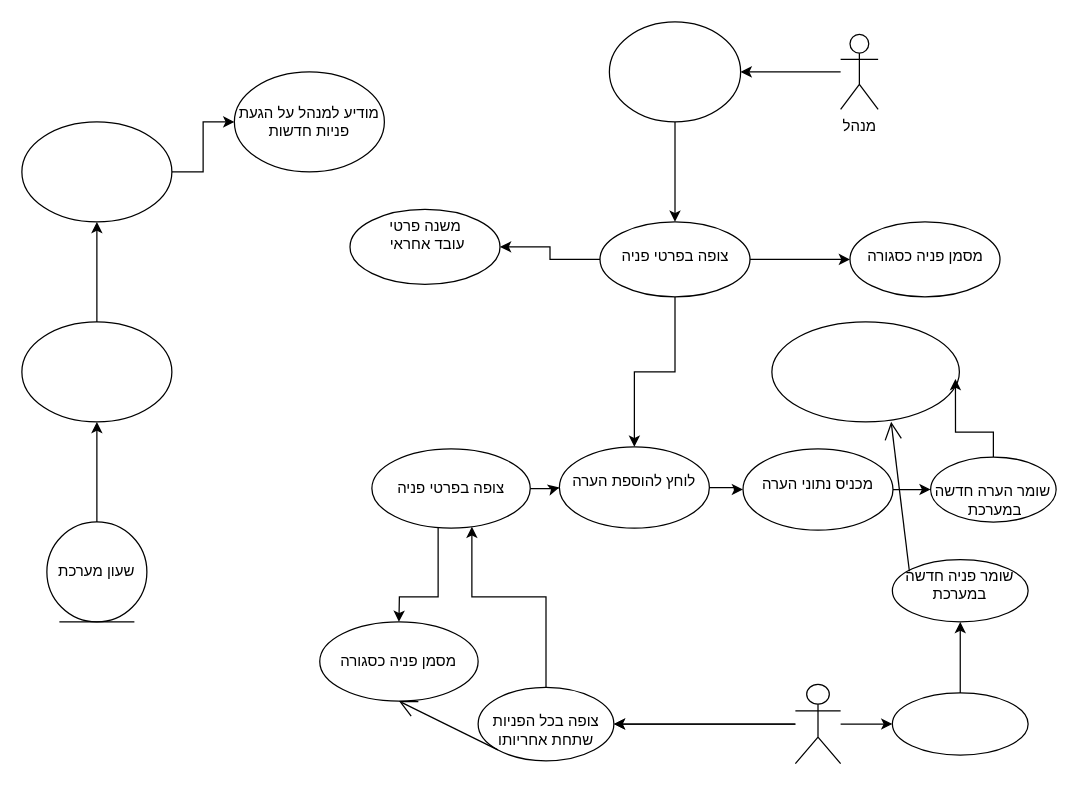
Some shapes in this 1079 by 811 pixel diagram are drawn without their labels. Each missing label, with the centre of its shape:
"אם הפניה/הערה לא סומנה כסודית שולח הודעה למייל של הפונה" goes at [865,371].
"בודק פעמיים ביום אם הגיעו למייל פניות חדשות" goes at [96,371].
"מכניס נתוני פניה חדשה" goes at [959,723].
"עובד" goes at [817,723].
"צופה בכל הפניות" goes at [674,71].
"שומר פניות חדשות במערכת" goes at [96,171].
